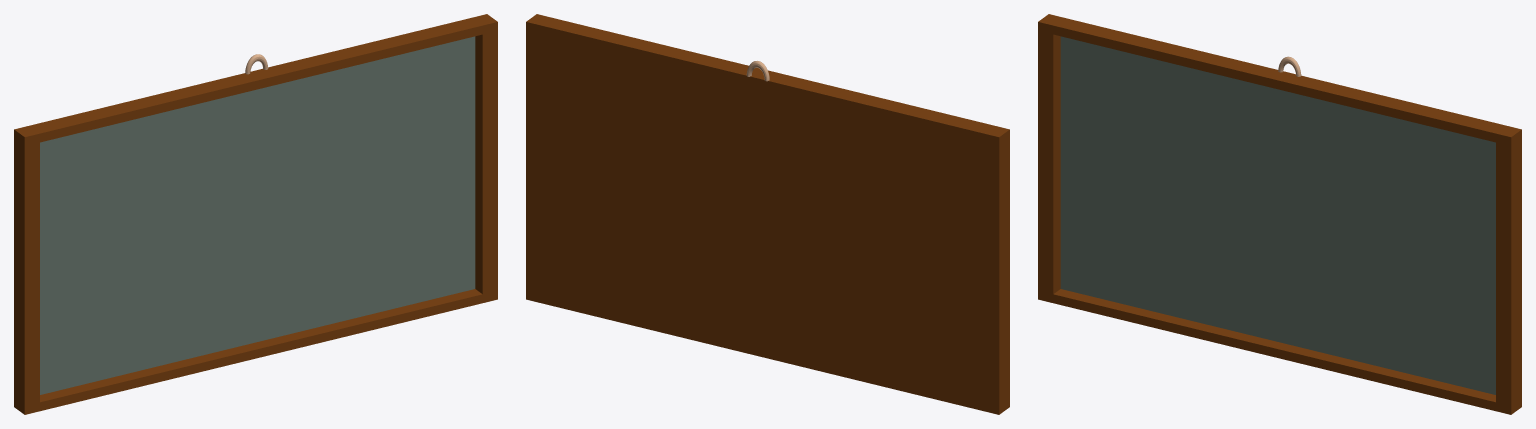
The model's file is green_board.glb.
The picture shows the model from 3 angles, left to right: view 1: azimuth 30°, elevation 25°; view 2: azimuth 150°, elevation 25°; view 3: azimuth 330°, elevation 25°; orthographic projection.
Parts seen in each view (by area): view 1: green_board; view 2: green_board; view 3: green_board.
Boxes of the visible parts, <box> form: green_board: <box>14,14,497,414</box>; green_board: <box>526,14,1009,414</box>; green_board: <box>1038,14,1521,414</box>.
Bounding box in the file's own units: 3.55 × 2.11 × 0.1452.
